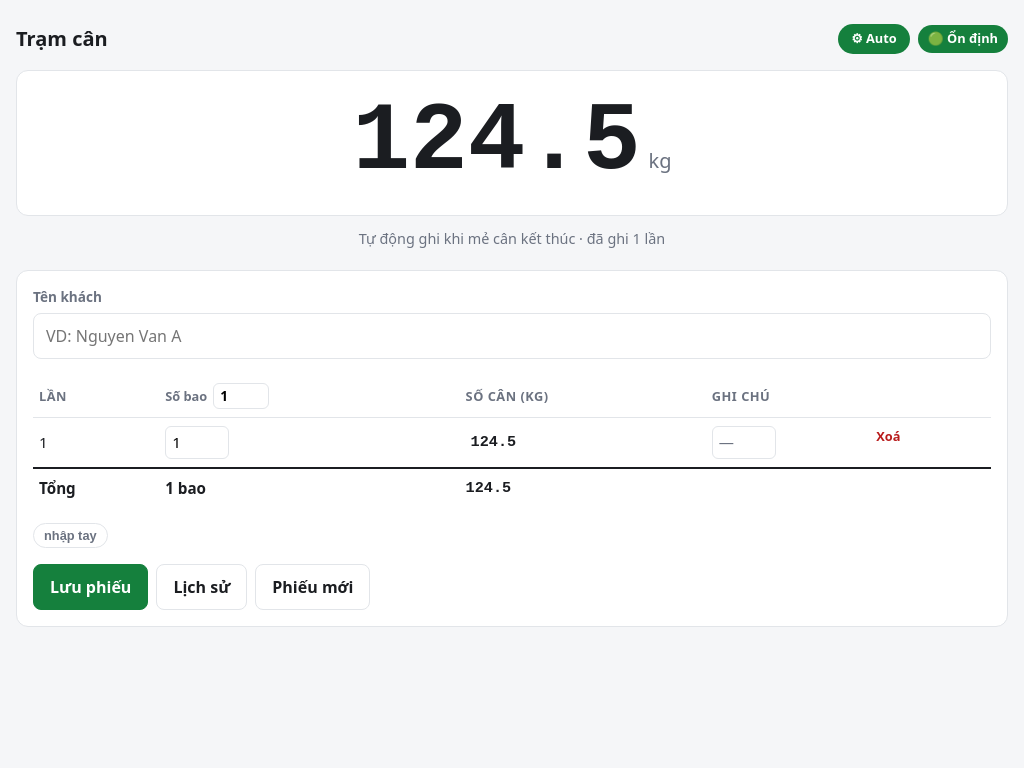
Scenario: WeighScreen › mặc định ở chế độ auto và chuyển sang thủ công bằng nút
Click the button "⚙ Auto": (874, 39) [838,24,910,54]
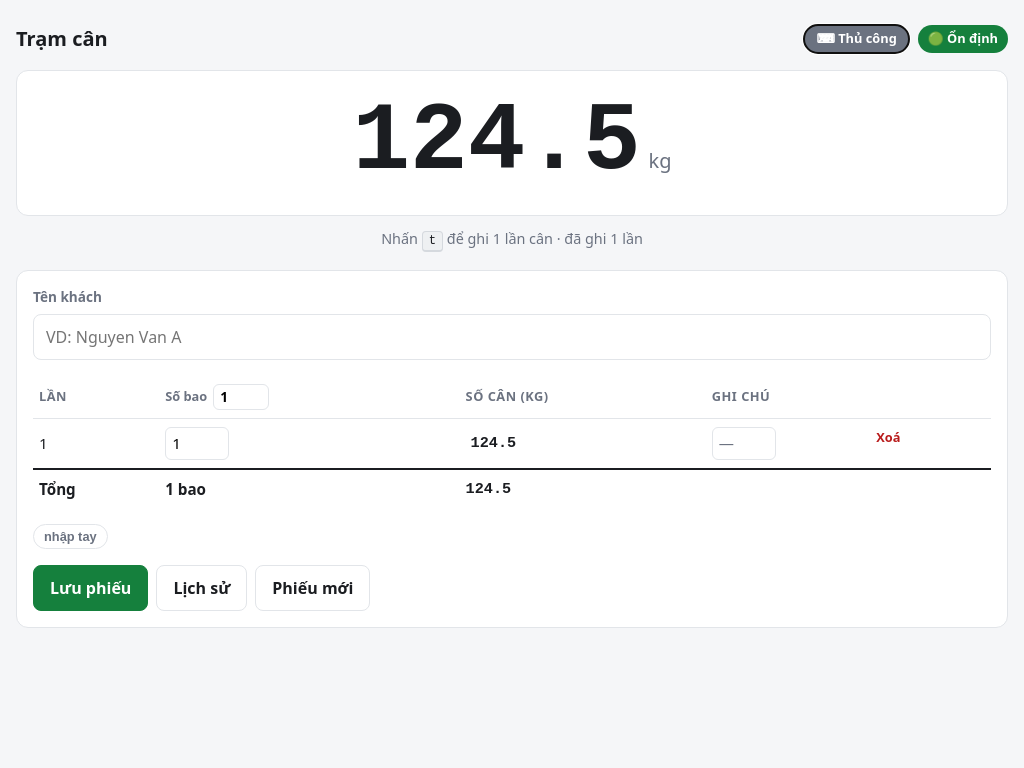
Expected: the text "t" is shown, [422,231,443,252]
Result: the text "Nhấn t để ghi 1 lần cân · đã ghi 1 lần" is shown at [381,229,643,252]
